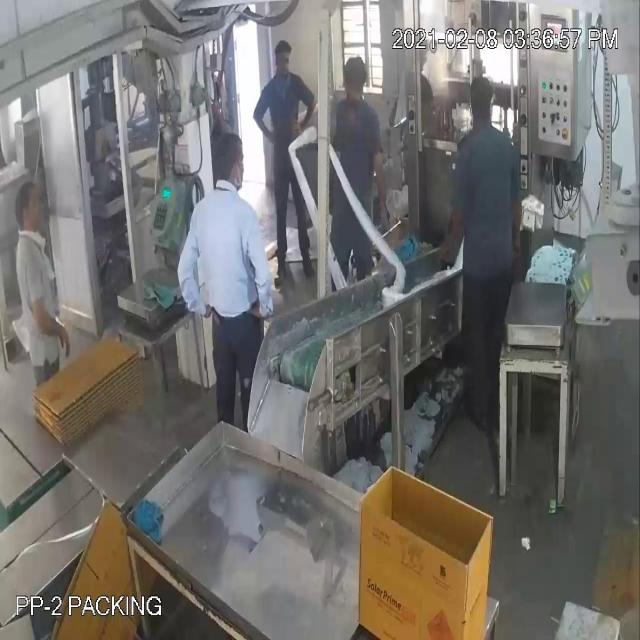No_Gloves: (26, 61, 379, 316)
